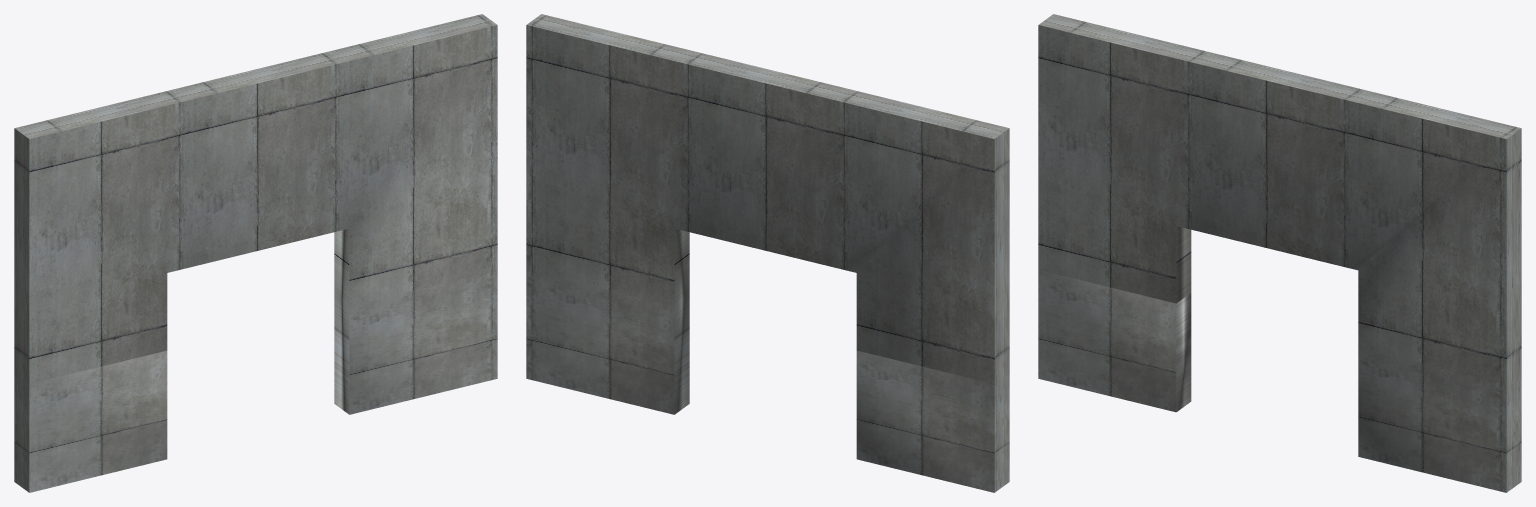
Rendered from elevator_wall.fbx.
3 renders of one model, left to right at view 1: azimuth 30°, elevation 25°; view 2: azimuth 150°, elevation 25°; view 3: azimuth 330°, elevation 25°, orthographic.
Parts seen in each view (by area): view 1: Cube__87_; view 2: Cube__87_; view 3: Cube__87_.
Boxes of the visible parts, x1,y1,x2,y2 form: Cube__87_: [14, 14, 497, 492]; Cube__87_: [526, 14, 1009, 492]; Cube__87_: [1038, 14, 1521, 492].
Size of the model in its own units: 1800 by 1300 by 100.
